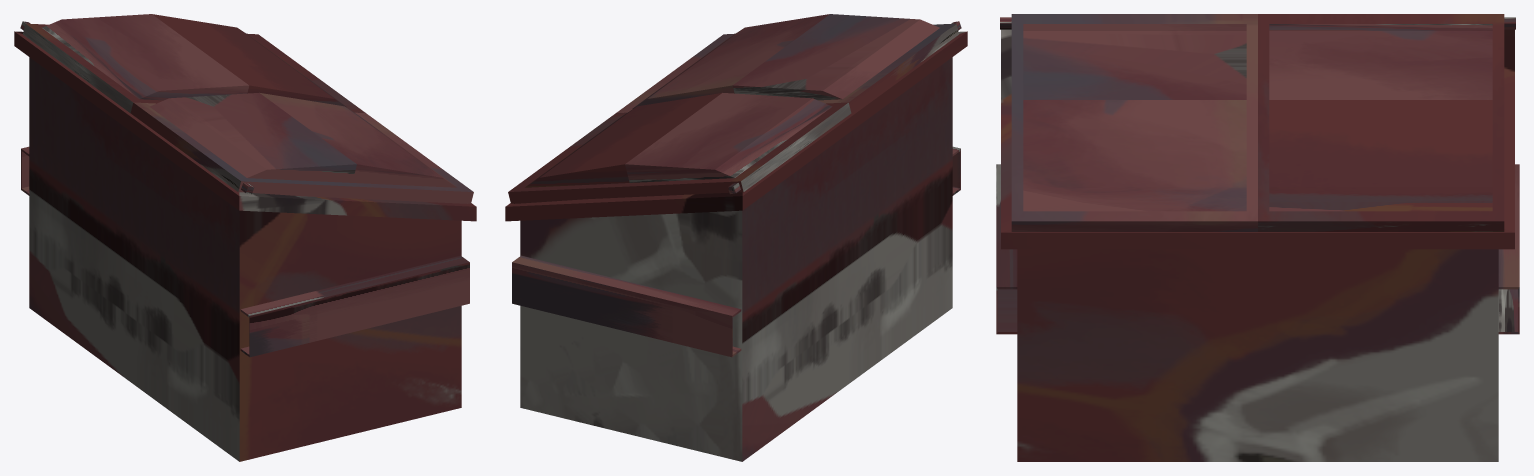
The model's file is dumpster.fbx.
3 views of the same model, side by side, from view 1: azimuth 30°, elevation 25°; view 2: azimuth 150°, elevation 25°; view 3: azimuth 270°, elevation 25° (orthographic). The views are drawn at different scales.
Visible parts, largest first — view 1: dumpster; view 2: dumpster; view 3: dumpster.
Part boxes in pixels (<box>): dumpster: <box>14,14,476,461</box>; dumpster: <box>505,14,967,461</box>; dumpster: <box>996,14,1519,461</box>.
Size of the model in its own units: 680 by 769 by 1126.
